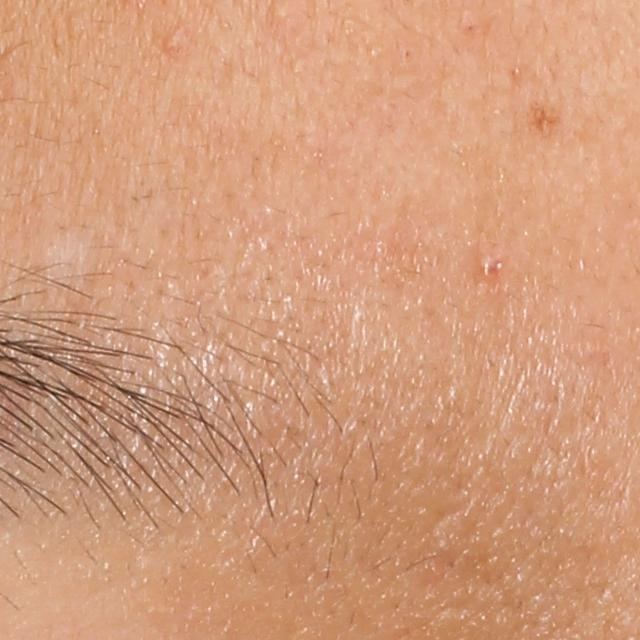comedo: (476, 246, 500, 272)
